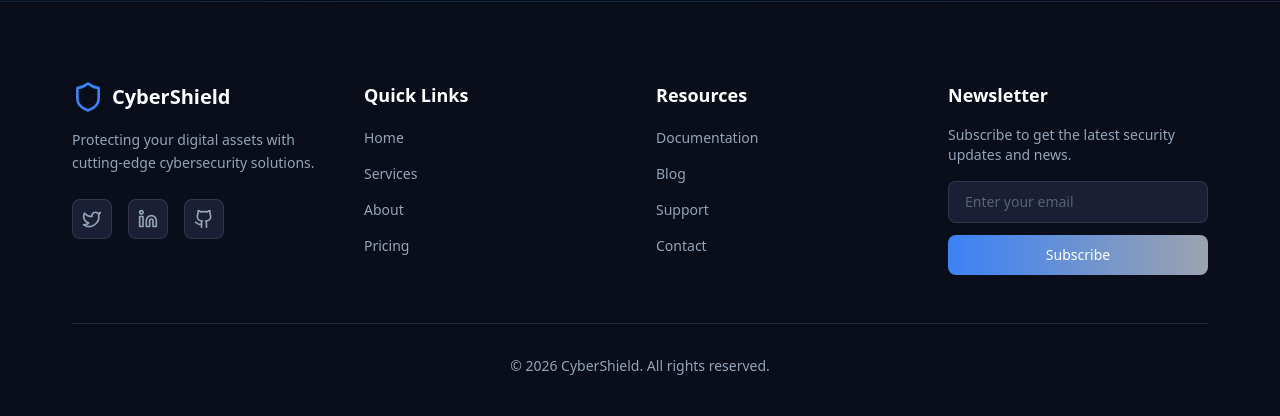
Test case: Footer › Newsletter Form Validation › should show error when submitting empty email
Click the button "Subscribe" at (1078, 255), box [948,235,1208,275]
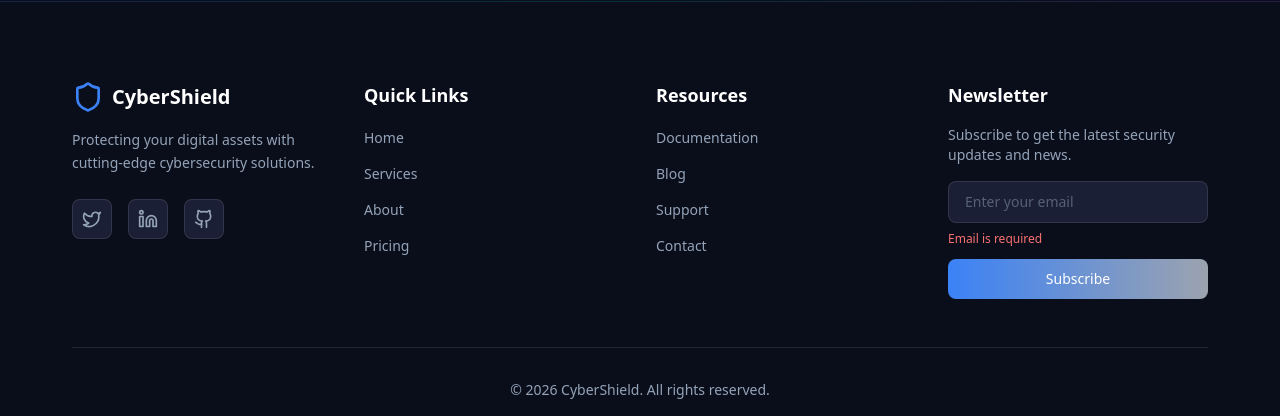
Now the text "Email is required" is shown, box [948,230,1042,247]
